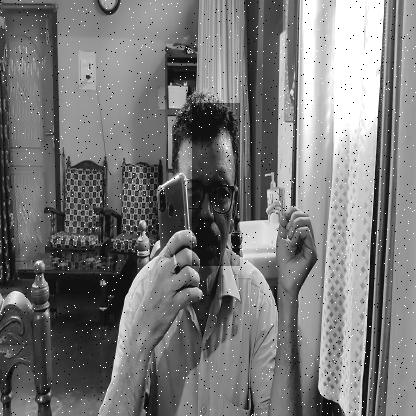Normal: (192, 103, 240, 266)
